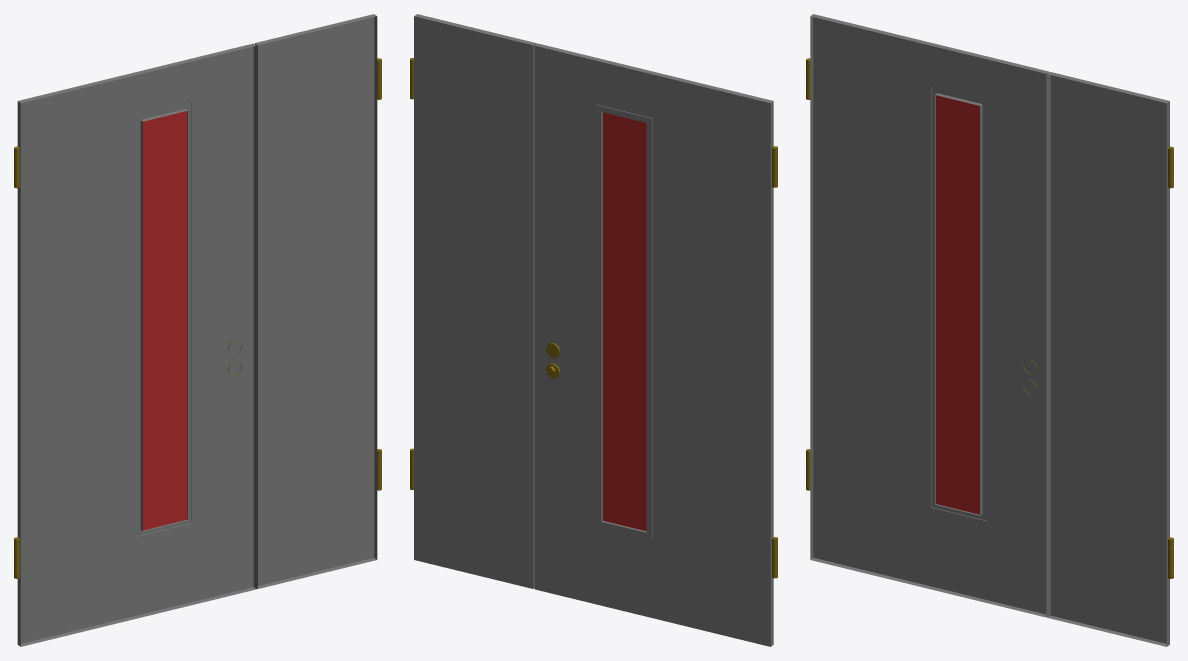
File: SM_Door_02.fbx
3 renders of one model, left to right at view 1: azimuth 30°, elevation 25°; view 2: azimuth 150°, elevation 25°; view 3: azimuth 330°, elevation 25°, orthographic.
Visible parts, largest first — view 1: SM_Door_02; view 2: SM_Door_02; view 3: SM_Door_02.
Part boxes in pixels (x1,y1,x2,y2): SM_Door_02: (14,14,381,646); SM_Door_02: (410,14,777,646); SM_Door_02: (806,14,1173,646).
Bounding box in the file's own units: 153 × 217 × 4.6.
